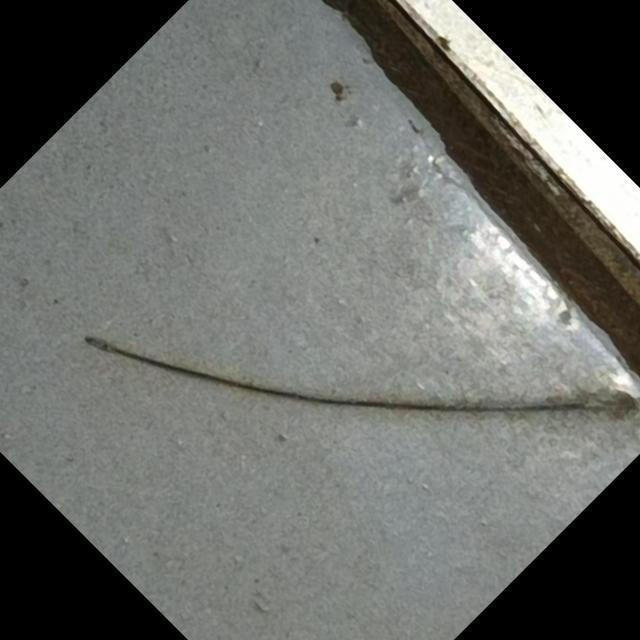defect: (73, 328, 640, 426)
